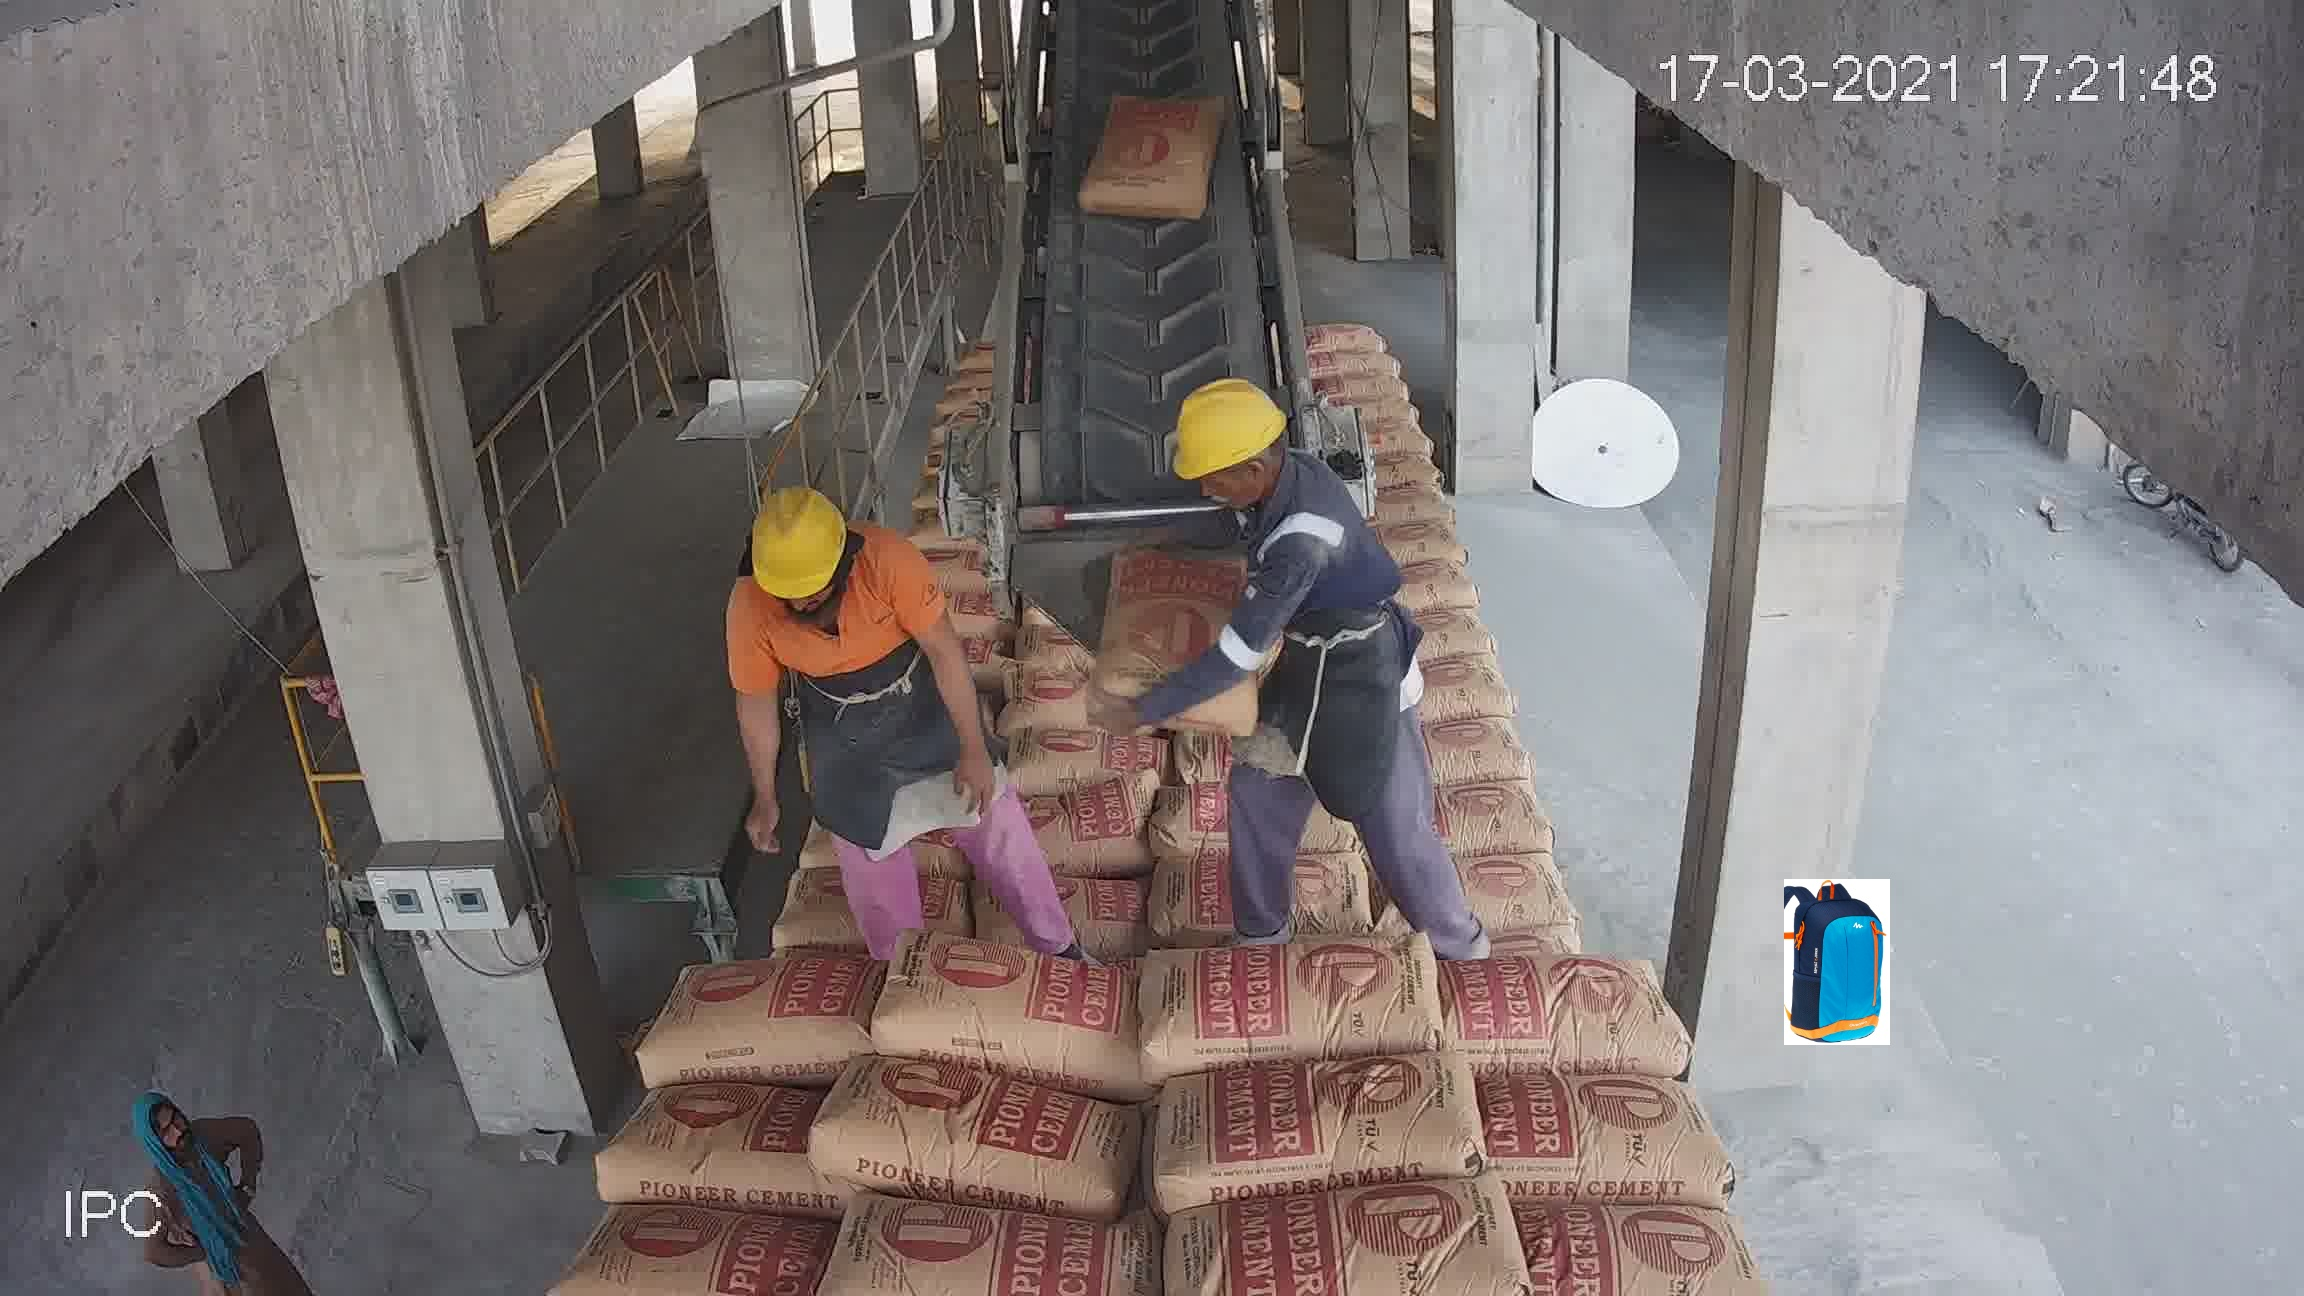belt: (1014, 0, 1302, 517), (1146, 1052, 1484, 1222), (1146, 921, 1453, 1070), (820, 1071, 1165, 1188), (1127, 1176, 1502, 1275), (1484, 1076, 1728, 1211), (1169, 824, 1434, 948), (873, 942, 1161, 1052), (843, 1185, 1158, 1285), (1146, 726, 1393, 843), (870, 840, 1143, 946), (1465, 949, 1703, 1068), (650, 964, 885, 1079), (1489, 1192, 1774, 1285), (896, 744, 1143, 839), (1367, 756, 1598, 858), (1396, 853, 1625, 954), (609, 1093, 813, 1206), (682, 862, 869, 967), (587, 1209, 824, 1285), (718, 777, 899, 870), (1016, 718, 1188, 783), (1176, 563, 1328, 631), (1179, 663, 1318, 731), (1184, 510, 1326, 571), (1173, 623, 1326, 679), (1017, 582, 1180, 631), (1032, 673, 1196, 718), (915, 502, 1051, 552), (1022, 631, 1166, 676), (961, 530, 1049, 597), (902, 465, 1005, 521), (1036, 548, 1176, 581)
